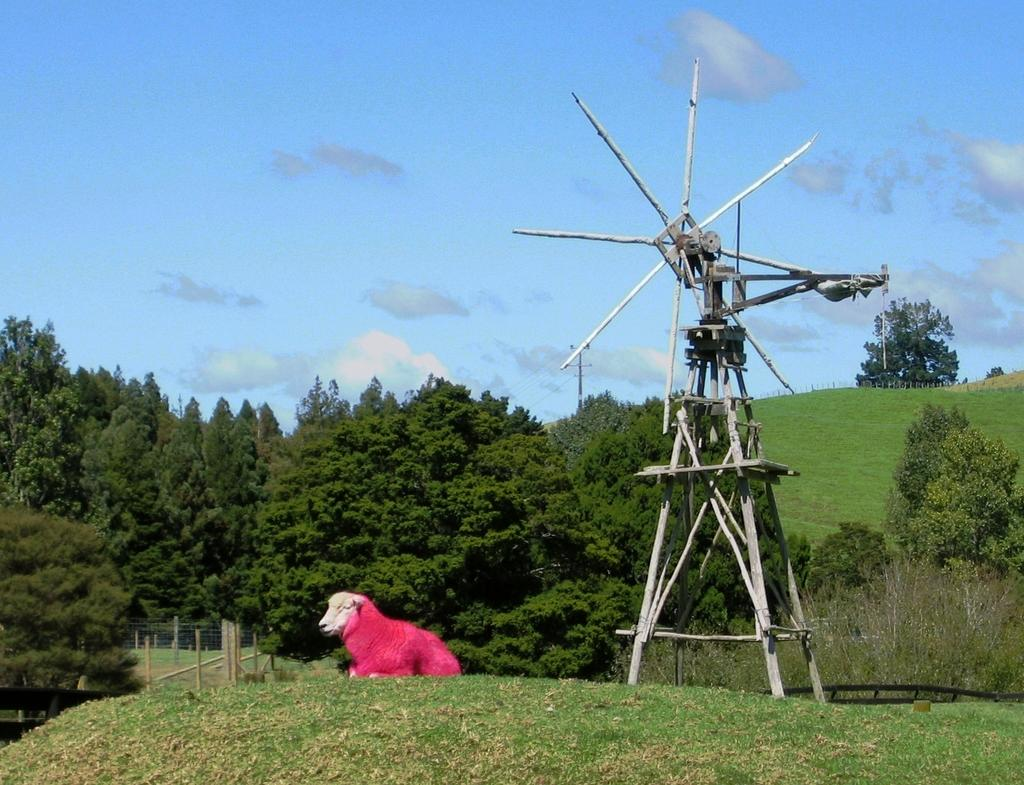Sheep: (319, 591, 461, 678)
